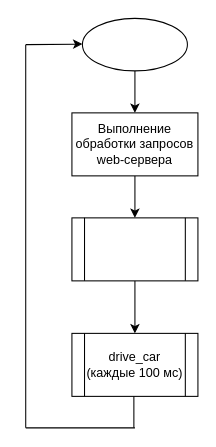
The diagram is 216 pixels wide and 447 high, and some of its shapes have lost their labels. The centre of each missing label's shape, as x and y in pixels:
"distance (каждые 100 мс)" belongs at (134,249).
"loop" belongs at (134,44).
